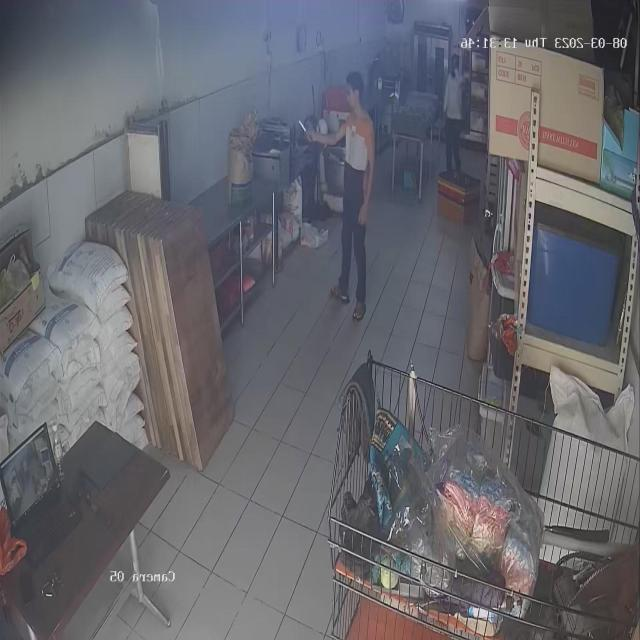Knife: (292, 111, 318, 148)
